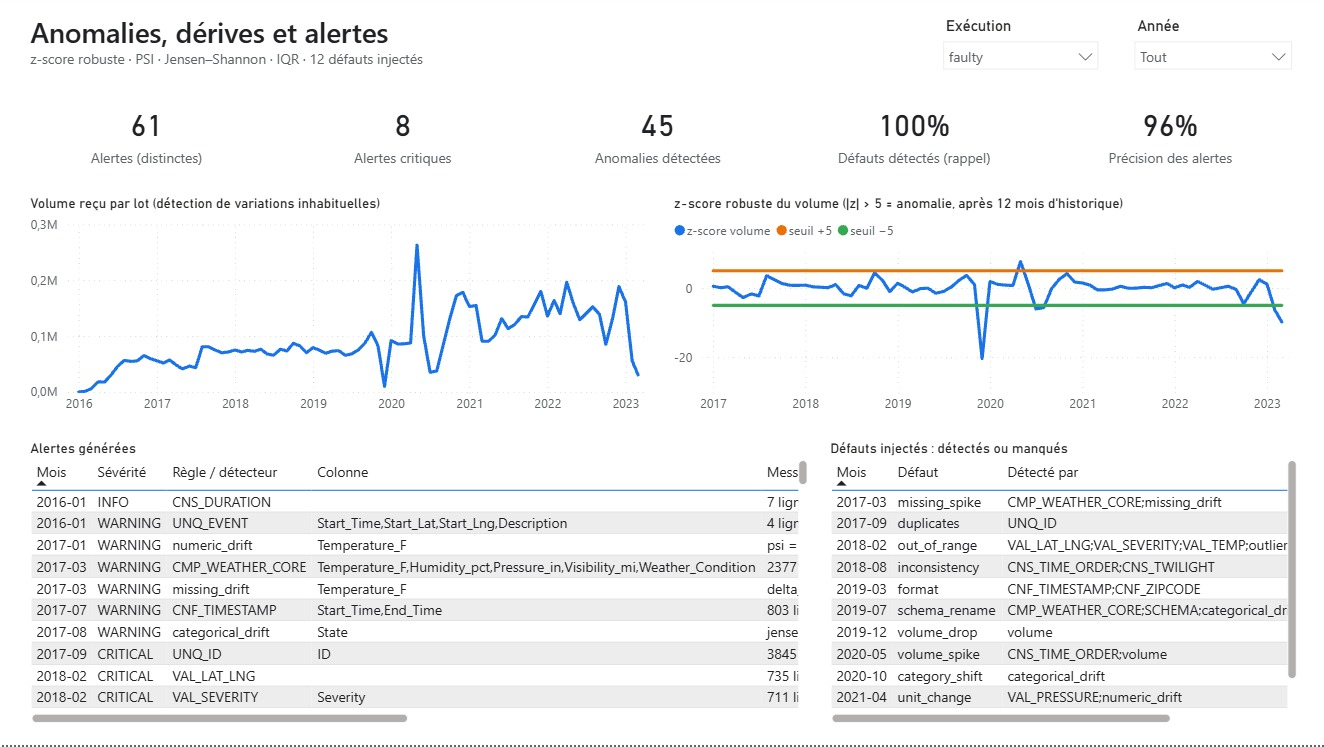

Layout of this report page (visuals, bound fields, positions):
{"tool":"powerbi","page":{"name":"Anomalies et alertes","canvas":[1280,720],"ordinal":3},"visuals":[{"type":"textbox","box":[24,8,860,64],"z":2000},{"type":"slicer","fields":{"Values":["dim_run.run_id"]},"box":[900,12,170,58],"z":3000},{"type":"slicer","fields":{"Values":["dim_batch.Annee"]},"box":[1084,12,172,58],"z":4000},{"type":"card","fields":{"Values":["_Mesures.Alertes"]},"box":[24,84,235,90],"z":5000},{"type":"card","fields":{"Values":["_Mesures.Alertes critiques"]},"box":[271,84,235,90],"z":6000},{"type":"card","fields":{"Values":["_Mesures.Anomalies détectées"]},"box":[518,84,235,90],"z":7000},{"type":"card","fields":{"Values":["_Mesures.Rappel"]},"box":[765,84,235,90],"z":8000},{"type":"card","fields":{"Values":["_Mesures.Précision"]},"box":[1012,84,235,90],"z":9000},{"type":"lineChart","title":"Volume reçu par lot (détection de variations inhabituelles)","fields":{"Category":["dim_batch.Date"],"Y":["_Mesures.Enregistrements analysés"]},"box":[24,190,610,220],"z":10000},{"type":"lineChart","title":"z-score robuste du volume (|z| > 5 = anomalie, après 12 mois d''historique)","fields":{"Category":["dim_batch.Date"],"Y":["_Mesures.Z-score volume","_Mesures.Seuil volume haut","_Mesures.Seuil volume bas"]},"box":[646,190,610,220],"z":11000},{"type":"tableEx","title":"Alertes générées","fields":{"Values":["fact_alert.batch_month","fact_alert.severity","fact_alert.detector_or_rule","fact_alert.column","fact_alert.message","fact_alert.planted_fault"]},"box":[24,426,760,278],"z":12000},{"type":"tableEx","title":"Défauts injectés : détectés ou manqués","fields":{"Values":["fact_fault_eval.batch_month","fact_fault_eval.fault_type","fact_fault_eval.detected_by","fact_fault_eval.detected"]},"box":[796,426,460,278],"z":13000}]}

Visuals, with their boxes in screenshot pixels (x1, y1, x2, y2), scaled from the page's 1280x720 canvas onto the 1324x747 screenshot:
textbox: <region>25, 8, 914, 75</region>
slicer - dim_run.run_id: <region>931, 12, 1107, 73</region>
slicer - dim_batch.Annee: <region>1121, 12, 1299, 73</region>
card - _Mesures.Alertes: <region>25, 87, 268, 181</region>
card - _Mesures.Alertes critiques: <region>280, 87, 523, 181</region>
card - _Mesures.Anomalies détectées: <region>536, 87, 779, 181</region>
card - _Mesures.Rappel: <region>791, 87, 1034, 181</region>
card - _Mesures.Précision: <region>1047, 87, 1290, 181</region>
"Volume reçu par lot (détection de variations inhabituelles)" lineChart: <region>25, 197, 656, 425</region>
"z-score robuste du volume (|z| > 5 = anomalie, après 12 mois d''historique)" lineChart: <region>668, 197, 1299, 425</region>
"Alertes générées" tableEx: <region>25, 442, 811, 730</region>
"Défauts injectés : détectés ou manqués" tableEx: <region>823, 442, 1299, 730</region>
